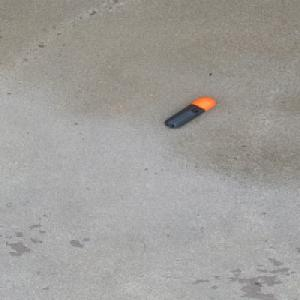PlasticPart: (163, 96, 217, 129)
